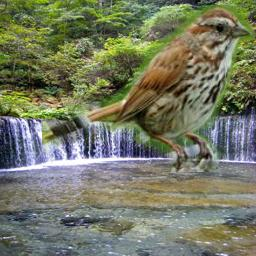Sparrow: (42, 5, 254, 172)
